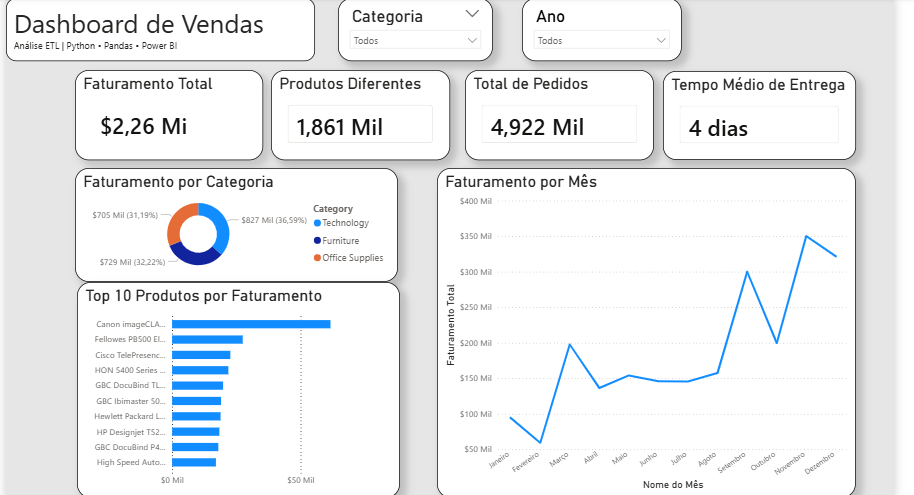

Layout of this report page (visuals, bound fields, positions):
{"tool":"powerbi","page":{"name":"Dashboard de Vendas","canvas":[1280,720],"ordinal":0},"visuals":[{"type":"cardVisual","title":"Faturamento Total","fields":{"Data":["superstore_tratado.Faturamento Total"]},"box":[99.4,103.7,270.7,129.6],"z":0},{"type":"cardVisual","title":"Total de Pedidos","fields":{"Data":["superstore_tratado.Total de Pedidos"]},"box":[661,103.7,272.2,129.6],"z":1000},{"type":"cardVisual","title":"Produtos Diferentes","fields":{"Data":["superstore_tratado.Total de Produtos"]},"box":[381.6,103.7,257.8,129.6],"z":2000},{"type":"cardVisual","title":"Tempo Médio de Entrega","fields":{"Data":["superstore_tratado.Tempo Médio de Entrega"]},"box":[946.1,105.1,277.9,128.2],"z":3000},{"type":"donutChart","title":"Faturamento por Categoria","fields":{"Category":["superstore_tratado.Category"],"Y":["superstore_tratado.Faturamento Total"]},"box":[99.4,244.8,465.1,164.2],"z":4000},{"type":"lineChart","title":"Faturamento por Mês","fields":{"Category":["superstore_tratado.Nome do Mês"],"Y":["superstore_tratado.Faturamento Total"]},"box":[620.6,244.8,603.4,475.2],"z":5000},{"type":"barChart","title":"Top 10 Produtos por Faturamento","fields":{"Category":["superstore_tratado.Product Name"],"Y":["superstore_tratado.Faturamento Total"]},"box":[102.2,409,465.1,311],"z":6000},{"type":"slicer","title":"Ano","fields":{"Values":["superstore_tratado.Year"]},"box":[743,0,230.4,90.7],"z":7000},{"type":"slicer","fields":{"Values":["superstore_tratado.Category"]},"box":[478.1,0,223.2,90.7],"z":8000},{"type":"textbox","box":[0,0,445,90.7],"z":9000}]}

Visuals, with their boxes in screenshot pixels (x1, y1, x2, y2):
"Faturamento Total" cardVisual: (left=70, top=66, right=260, bottom=157)
"Total de Pedidos" cardVisual: (left=465, top=66, right=656, bottom=157)
"Produtos Diferentes" cardVisual: (left=268, top=66, right=450, bottom=157)
"Tempo Médio de Entrega" cardVisual: (left=665, top=67, right=861, bottom=157)
"Faturamento por Categoria" donutChart: (left=70, top=165, right=397, bottom=280)
"Faturamento por Mês" lineChart: (left=436, top=165, right=861, bottom=494)
"Top 10 Produtos por Faturamento" barChart: (left=72, top=280, right=399, bottom=494)
"Ano" slicer: (left=522, top=0, right=684, bottom=57)
slicer - superstore_tratado.Category: (left=336, top=0, right=493, bottom=57)
textbox: (left=0, top=0, right=313, bottom=57)
